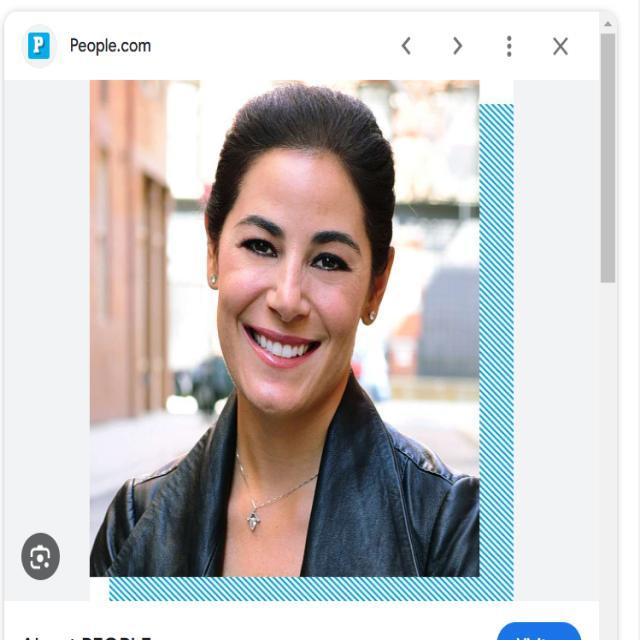face_no_mask: (205, 147, 392, 408)
